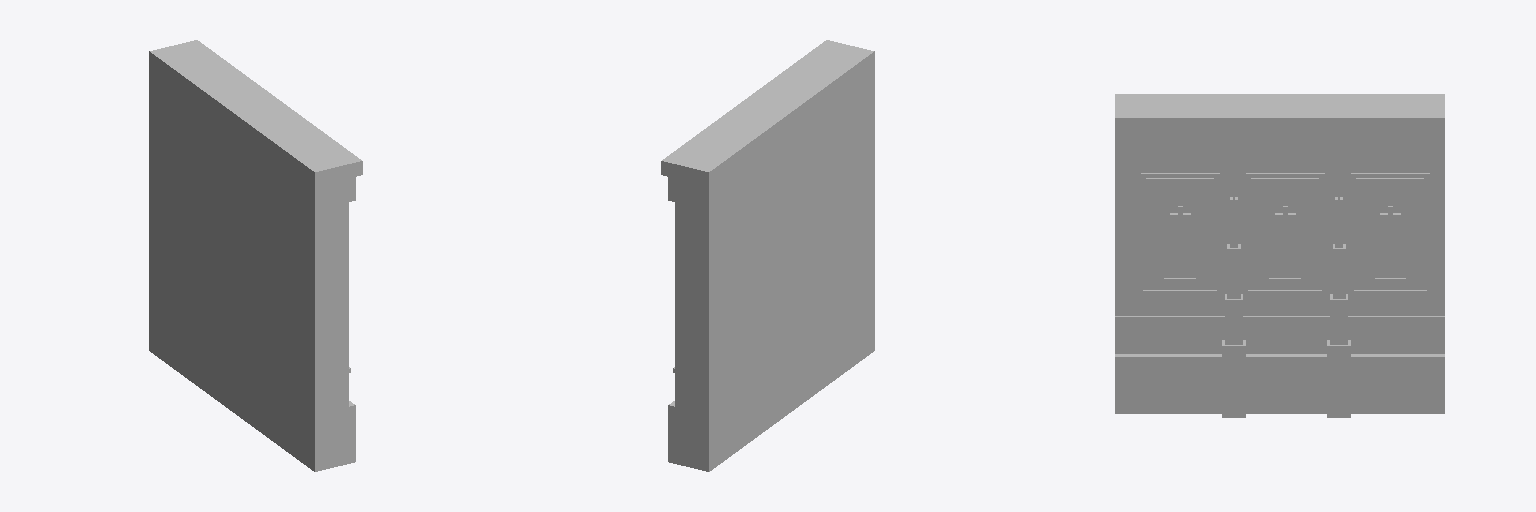
File: church sides obj.obj
3 views of the same model, side by side, from view 1: azimuth 30°, elevation 25°; view 2: azimuth 150°, elevation 25°; view 3: azimuth 270°, elevation 25° (orthographic).
Parts seen in each view (by area): view 1: object 1; view 2: object 1; view 3: object 1.
Part boxes in pixels (bbox=[...]): object 1: bbox=[149, 40, 362, 471]; object 1: bbox=[661, 40, 874, 471]; object 1: bbox=[1115, 94, 1444, 417].
Bounding box in the file's own units: 2.1 × 12.6 × 12.6.